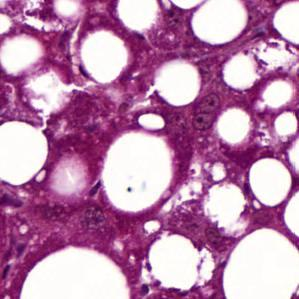steatosis: (245, 158, 294, 206)
